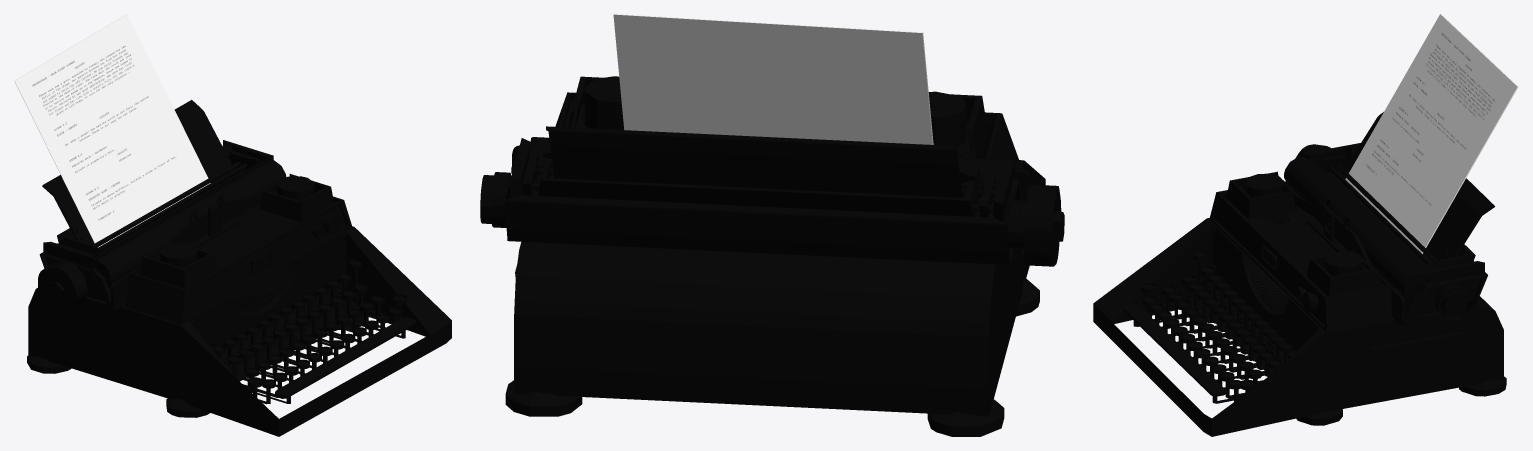
Rendered from typewriter.glb.
3 renders of one model, left to right at view 1: azimuth 30°, elevation 25°; view 2: azimuth 150°, elevation 25°; view 3: azimuth 270°, elevation 25°, orthographic. The views are drawn at different scales.
Visible parts, largest first — view 1: office_actual_size_3:office_actual_size_2:Type_Writer:T_e803, paper; view 2: office_actual_size_3:office_actual_size_2:Type_Writer:T_e803, paper; view 3: office_actual_size_3:office_actual_size_2:Type_Writer:T_e803, paper.
Part boxes in pixels (box(x1,y1,x2,y2)): office_actual_size_3:office_actual_size_2:Type_Writer:T_e803: box(27, 100, 451, 436); paper: box(14, 14, 210, 247); office_actual_size_3:office_actual_size_2:Type_Writer:T_e803: box(480, 76, 1064, 436); paper: box(613, 14, 933, 144); office_actual_size_3:office_actual_size_2:Type_Writer:T_e803: box(1093, 112, 1506, 436); paper: box(1345, 14, 1518, 253).
Bounding box in the file's own units: 0.5484 × 0.391 × 0.5594.
3 materials, 1 textured.
